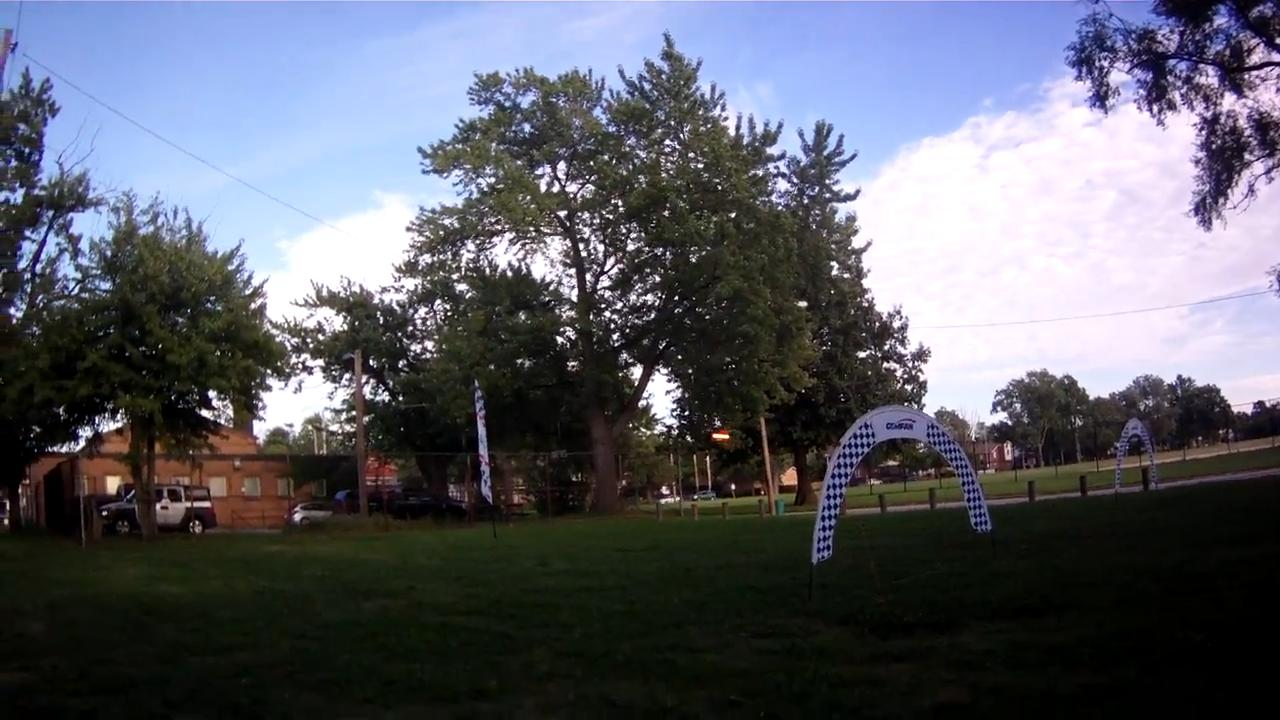gate: (809, 404, 993, 570)
